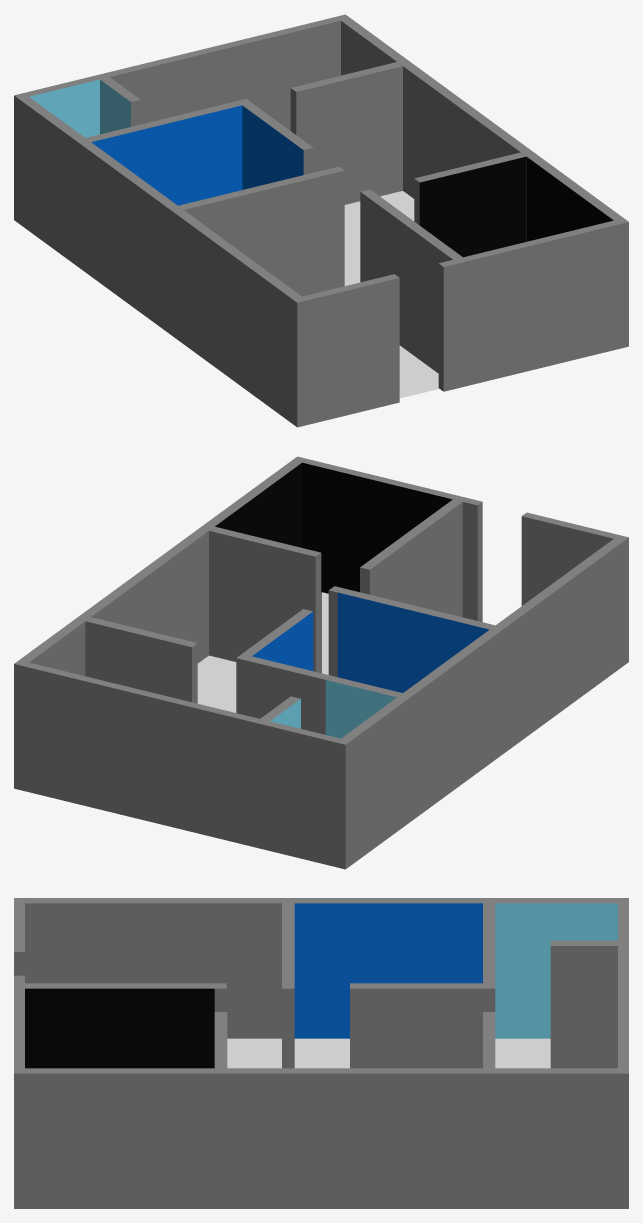
Rendered from Rumah.glb.
The picture shows the model from 3 angles, top to bottom: view 1: azimuth 30°, elevation 25°; view 2: azimuth 150°, elevation 25°; view 3: azimuth 270°, elevation 25°; orthographic projection. The views are drawn at different scales.
Parts seen in each view (by area): view 1: tembok rumah kiri, tembok rumah kanan, tembok rumah belakang, tembok kamar mc kiri dari pintu dan tembok depan ruang tamu, tembok dapur dan ruang keluarga, tembok rumah depan, tembok kamar tio dari sisi dapur dan kamar mandi, tembok kamar ortu kiri dari pintu, tembok kamar ortu kanan dari pintu dan ruang tamu, tembok kamar mc dari kanan, lantai, tembok wc; view 2: tembok rumah kiri, tembok rumah belakang, tembok rumah kanan, tembok kamar ortu kiri dari pintu, tembok kamar mc kiri dari pintu dan tembok depan ruang tamu, tembok kamar ortu kanan dari pintu dan ruang tamu, tembok kamar tio dari sisi dapur dan kamar mandi, tembok dapur dan ruang keluarga, tembok rumah depan, lantai, tembok kamar mc dari kanan, tembok wc; view 3: tembok rumah kanan, tembok rumah kiri, tembok kamar ortu kanan dari pintu dan ruang tamu, tembok kamar mc dari kanan, tembok wc, lantai, tembok kamar mc kiri dari pintu dan tembok depan ruang tamu, tembok rumah belakang, tembok kamar tio dari sisi dapur dan kamar mandi, tembok kamar ortu kiri dari pintu, tembok dapur dan ruang keluarga, tembok rumah depan.
Boxes of the visible parts, <box> form: tembok rumah kiri: <box>14,93,399,427</box>; tembok rumah kanan: <box>336,14,628,373</box>; tembok rumah belakang: <box>24,17,340,137</box>; tembok kamar mc kiri dari pintu dan tembok depan ruang tamu: <box>178,166,344,296</box>; tembok dapur dan ruang keluarga: <box>290,62,402,204</box>; tembok rumah depan: <box>438,245,517,391</box>; tembok kamar tio dari sisi dapur dan kamar mandi: <box>86,98,251,205</box>; tembok kamar ortu kiri dari pintu: <box>414,152,526,257</box>; tembok kamar ortu kanan dari pintu dan ruang tamu: <box>360,189,462,373</box>; tembok kamar mc dari kanan: <box>242,103,313,189</box>; lantai: <box>344,191,439,398</box>; tembok wc: <box>100,77,140,134</box>; tembok rumah kiri: <box>335,512,628,869</box>; tembok rumah belakang: <box>24,662,340,866</box>; tembok rumah kanan: <box>14,456,407,790</box>; tembok kamar ortu kiri dari pintu: <box>209,526,321,673</box>; tembok kamar mc kiri dari pintu dan tembok depan ruang tamu: <box>328,586,494,692</box>; tembok kamar ortu kanan dari pintu dan ruang tamu: <box>360,499,462,617</box>; tembok kamar tio dari sisi dapur dan kamar mandi: <box>236,654,402,738</box>; tembok dapur dan ruang keluarga: <box>85,617,197,703</box>; tembok rumah depan: <box>403,483,482,621</box>; lantai: <box>197,592,328,712</box>; tembok kamar mc dari kanan: <box>242,609,313,670</box>; tembok wc: <box>260,696,300,728</box>; tembok rumah kanan: <box>14,1015,628,1208</box>; tembok rumah kiri: <box>14,898,628,1038</box>; tembok kamar ortu kanan dari pintu dan ruang tamu: <box>25,983,226,1068</box>; tembok kamar mc dari kanan: <box>350,983,482,1068</box>; tembok wc: <box>550,940,617,1068</box>; lantai: <box>227,1038,550,1068</box>; tembok kamar mc kiri dari pintu dan tembok depan ruang tamu: <box>282,903,294,1068</box>; tembok rumah belakang: <box>618,903,628,1068</box>; tembok kamar tio dari sisi dapur dan kamar mandi: <box>483,903,495,1011</box>; tembok kamar ortu kiri dari pintu: <box>214,1012,227,1068</box>; tembok dapur dan ruang keluarga: <box>483,1012,495,1068</box>; tembok rumah depan: <box>14,975,24,1014</box>.
Bounding box in the file's own units: 7.51 × 2.7 × 11.12.
